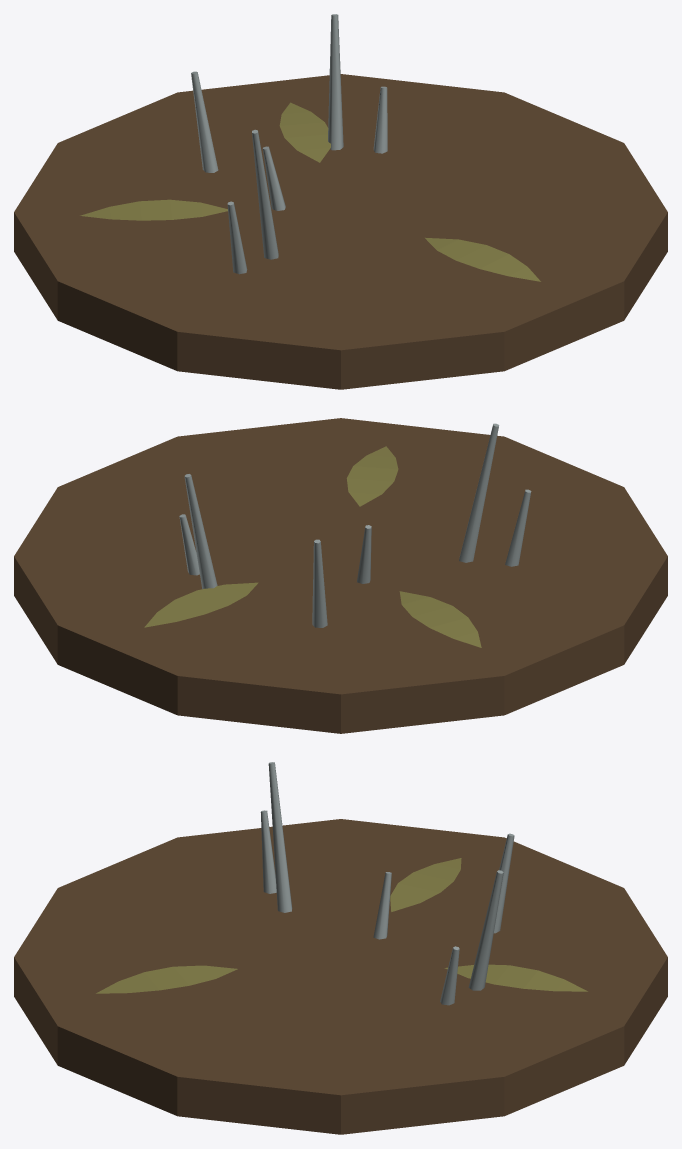
The model's file is mondsalbei-geerntet.glb.
3 renders of one model, top to bottom at view 1: azimuth 30°, elevation 25°; view 2: azimuth 150°, elevation 25°; view 3: azimuth 270°, elevation 25°, orthographic.
Visible parts, largest first — view 1: mondsalbei; view 2: mondsalbei; view 3: mondsalbei.
Boxes of the visible parts, bbox=[...] form: mondsalbei: bbox=[14, 14, 667, 389]; mondsalbei: bbox=[14, 418, 667, 733]; mondsalbei: bbox=[14, 762, 667, 1134].
Size of the model in its own units: 0.3 by 0.0887 by 0.3.
